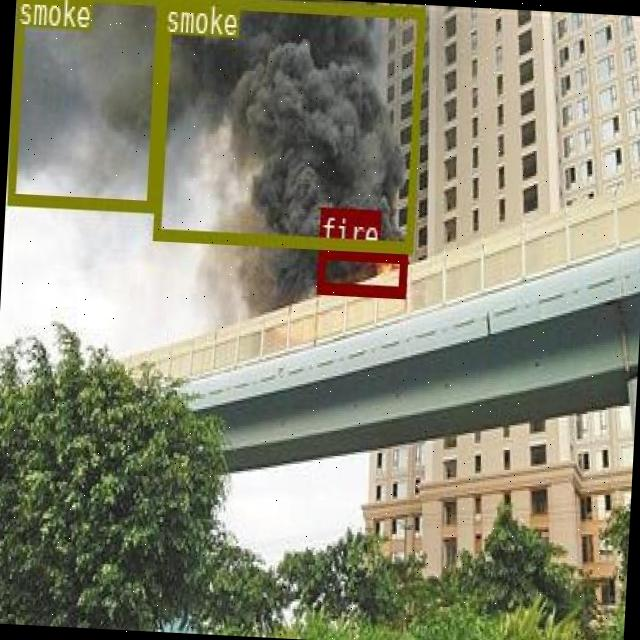fire: (316, 246, 406, 295)
smoke: (152, 0, 423, 250), (7, 0, 164, 210)
